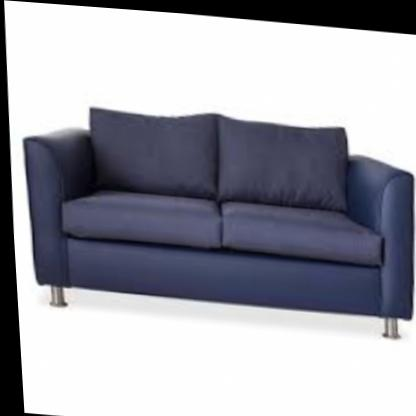Sofa: (14, 95, 416, 337)
